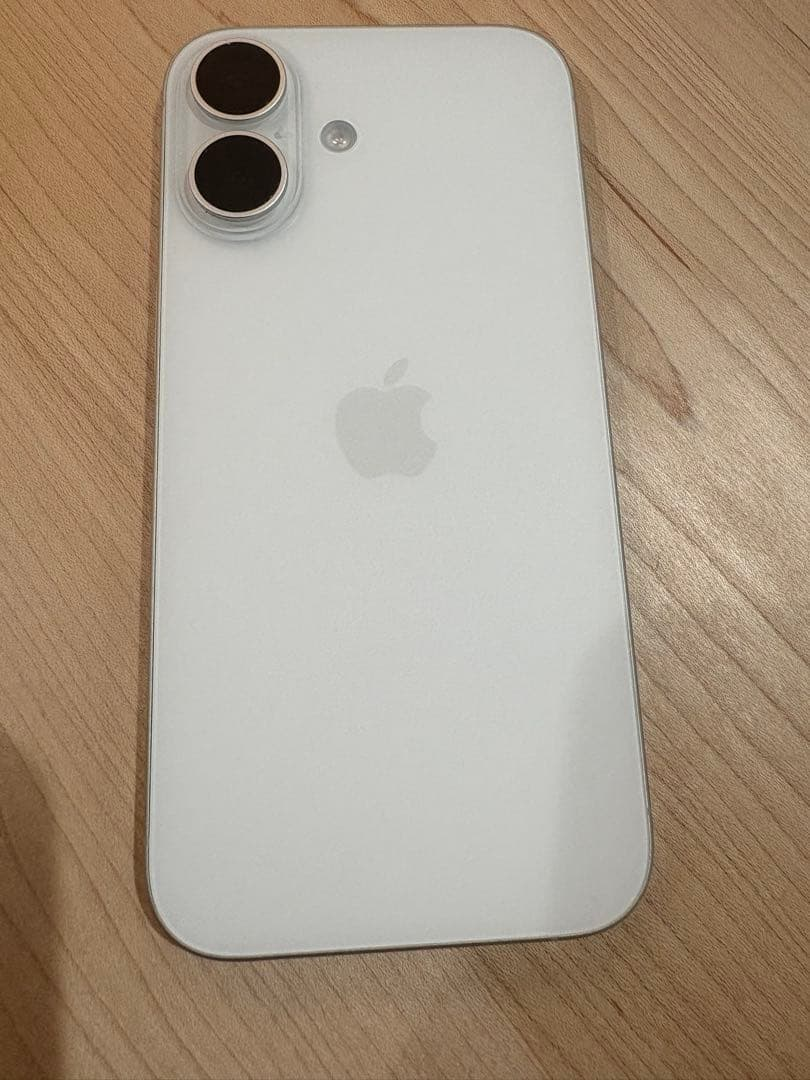iphone16_white: (142, 24, 668, 966), (173, 56, 382, 249)
